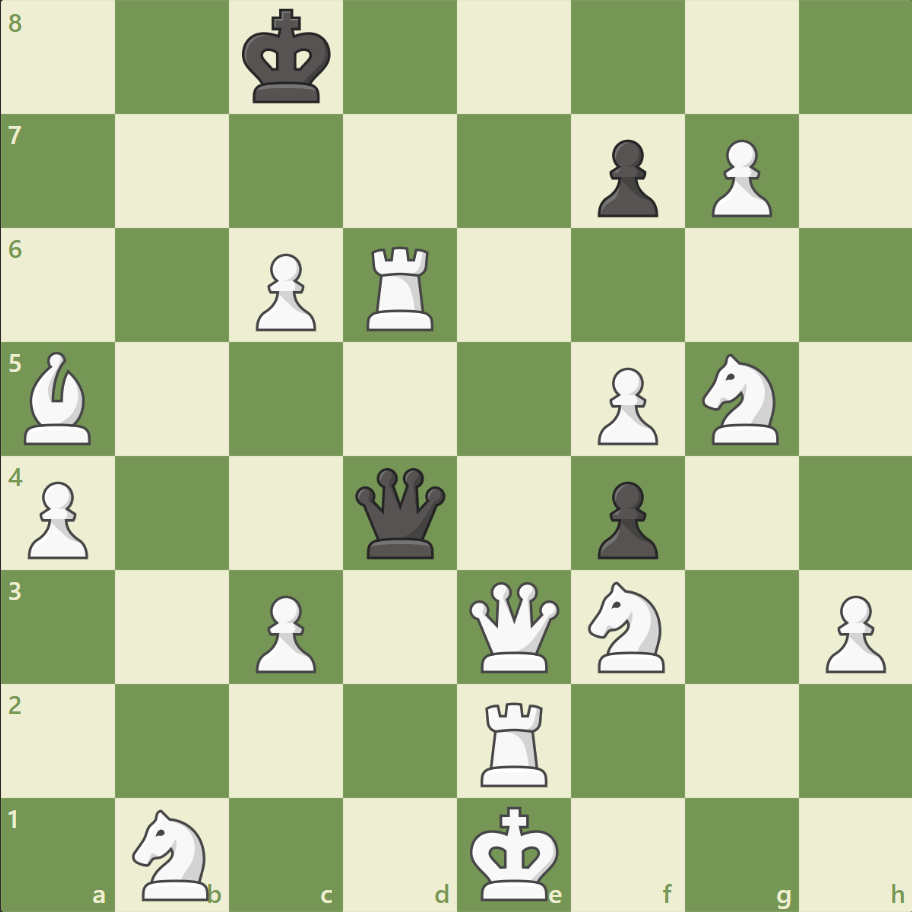B: (17, 347, 101, 449)
K: (465, 798, 565, 906)
N: (124, 802, 222, 904), (692, 348, 789, 450), (579, 575, 676, 677)
P: (701, 132, 776, 223), (247, 246, 322, 337), (20, 473, 95, 564), (247, 586, 322, 677), (588, 359, 662, 450), (815, 586, 889, 677)
Q: (464, 576, 563, 676)
R: (473, 693, 556, 790), (360, 239, 442, 336)
k: (238, 4, 338, 112)
p: (588, 132, 662, 223), (588, 473, 662, 564)
q: (351, 463, 450, 562)
